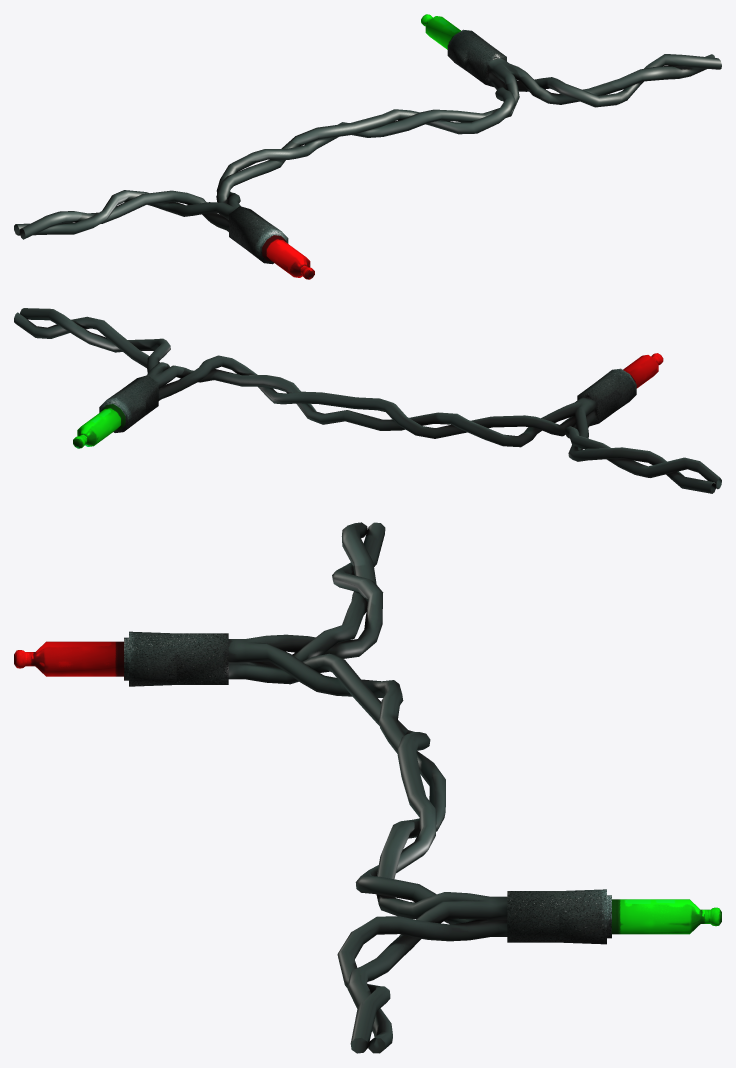
File: lights.obj
The picture shows the model from 3 angles, top to bottom: view 1: azimuth 30°, elevation 25°; view 2: azimuth 150°, elevation 25°; view 3: azimuth 270°, elevation 25°; orthographic projection. The views are drawn at different scales.
Visible parts, largest first — view 1: light_string_003_Cube.007; view 2: light_string_003_Cube.007; view 3: light_string_003_Cube.007.
Part boxes in pixels (box(x1,y1,x2,y2)): light_string_003_Cube.007: box(14, 14, 721, 279); light_string_003_Cube.007: box(14, 308, 721, 493); light_string_003_Cube.007: box(14, 522, 721, 1053).
Bounding box in the file's own units: 5.37 × 0.2516 × 3.12.
